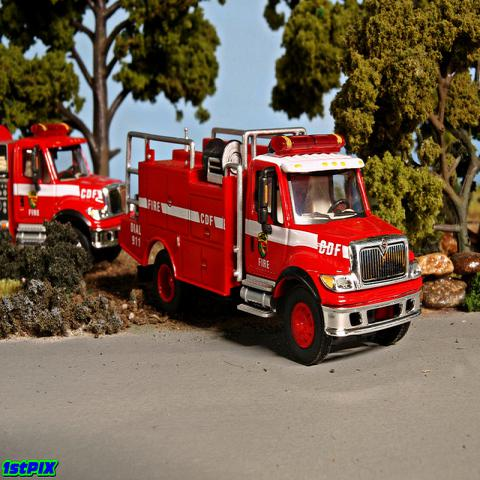truck: (116, 125, 423, 365), (0, 122, 124, 266)
